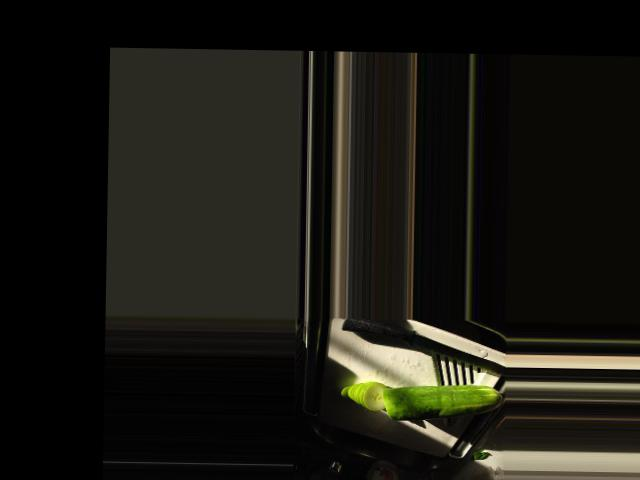cucumber: (381, 383, 502, 421)
